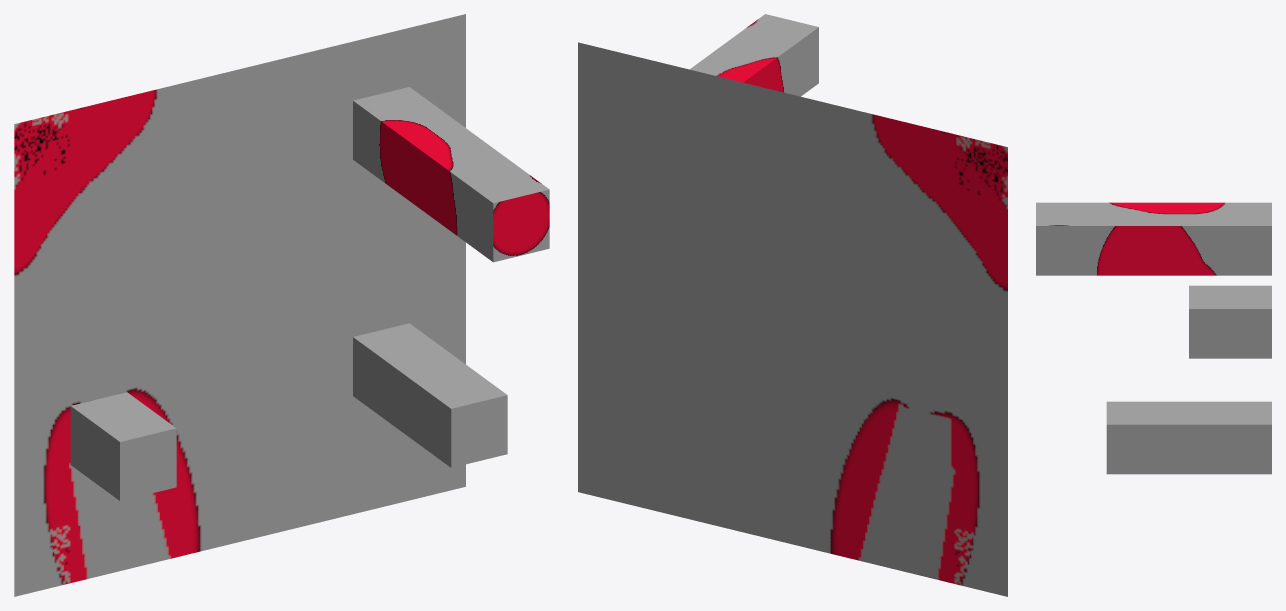
File: terrain.obj
The picture shows the model from 3 angles, left to right: view 1: azimuth 30°, elevation 25°; view 2: azimuth 150°, elevation 25°; view 3: azimuth 270°, elevation 25°; orthographic projection. The views are drawn at different scales.
Parts seen in each view (by area): view 1: Plane; view 2: Plane; view 3: Plane.
Boxes of the visible parts, box(x1,y1,x2,y2) form: Plane: box(14, 14, 549, 596); Plane: box(578, 14, 1007, 596); Plane: box(1036, 202, 1271, 474).
Bounding box in the file's own units: 134 × 134 × 72.1.
1 material, 1 textured.
